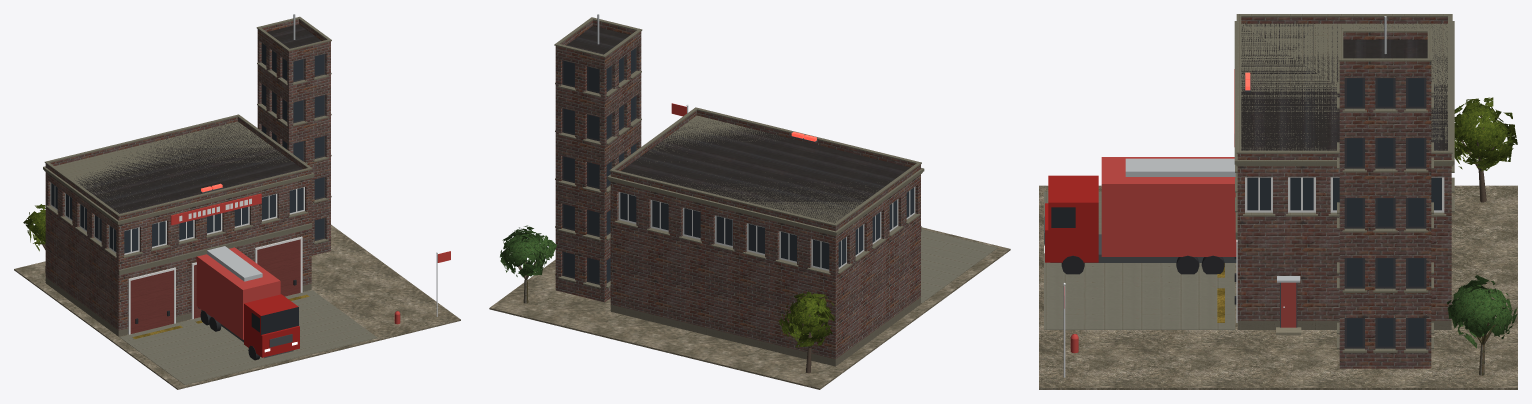
The model's file is fire_station.glb.
3 renders of one model, left to right at view 1: azimuth 30°, elevation 25°; view 2: azimuth 150°, elevation 25°; view 3: azimuth 270°, elevation 25°, orthographic. The views are drawn at different scales.
Parts seen in each view (by area): view 1: fire_station_body, fire_station_foliage; view 2: fire_station_body, fire_station_foliage; view 3: fire_station_body, fire_station_foliage.
Part boxes in pixels (left/top/right/bottom): fire_station_body: left=14, top=14, right=460, bottom=389; fire_station_foliage: left=23, top=204, right=45, bottom=251; fire_station_body: left=489, top=14, right=1010, bottom=389; fire_station_foliage: left=500, top=225, right=834, bottom=347; fire_station_body: left=1039, top=14, right=1517, bottom=389; fire_station_foliage: left=1447, top=97, right=1517, bottom=348.
Bounding box in the file's own units: 0.94 × 0.734 × 0.94.
Materials: 32 (13 with a texture image).
